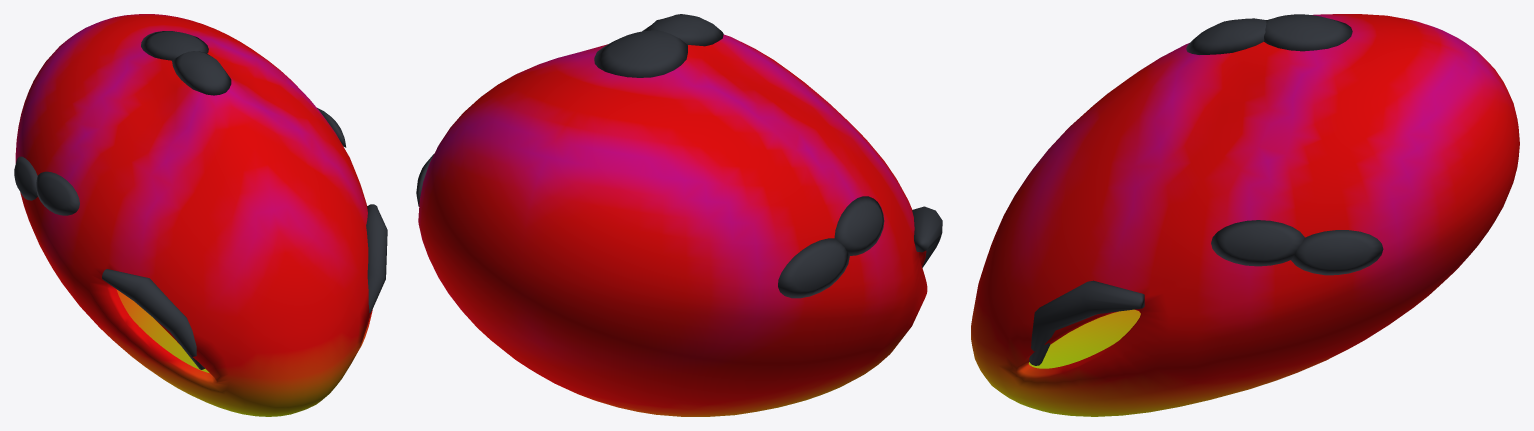
File: GXR_HEAD_01_DRACONIC.glb
3 renders of one model, left to right at view 1: azimuth 30°, elevation 25°; view 2: azimuth 150°, elevation 25°; view 3: azimuth 270°, elevation 25°, orthographic. The views are drawn at different scales.
Visible parts, largest first — view 1: Mesh_HeadSurface_DRACONIC_Export, Mesh_Supraorbital_ridge_Export, Mesh_Organic_cranial_scute_Export, Mesh_Supraorbital_ridge.001_Export, Mesh_Organic_cranial_scute.002_Export, Mesh_Organic_cranial_scute.001_Export, Mesh_Organic_cranial_scute.003_Export; view 2: Mesh_HeadSurface_DRACONIC_Export, Mesh_Organic_cranial_scute.001_Export, Mesh_Organic_cranial_scute.003_Export, Mesh_Organic_cranial_scute.002_Export, Mesh_Organic_cranial_scute_Export, Mesh_Supraorbital_ridge_Export; view 3: Mesh_HeadSurface_DRACONIC_Export, Mesh_Supraorbital_ridge.001_Export, Mesh_Organic_cranial_scute.004_Export, Mesh_Organic_cranial_scute.005_Export, Mesh_Organic_cranial_scute.001_Export, Mesh_Organic_cranial_scute_Export.
Part boxes in pixels (<box>): Mesh_HeadSurface_DRACONIC_Export: <box>15,14,372,416</box>; Mesh_Supraorbital_ridge_Export: <box>102,269,204,369</box>; Mesh_Organic_cranial_scute_Export: <box>172,51,231,95</box>; Mesh_Supraorbital_ridge.001_Export: <box>366,204,387,312</box>; Mesh_Organic_cranial_scute.002_Export: <box>36,171,79,215</box>; Mesh_Organic_cranial_scute.001_Export: <box>141,31,208,60</box>; Mesh_Organic_cranial_scute.003_Export: <box>14,156,37,200</box>; Mesh_HeadSurface_DRACONIC_Export: <box>418,34,927,416</box>; Mesh_Organic_cranial_scute.001_Export: <box>594,30,687,77</box>; Mesh_Organic_cranial_scute.003_Export: <box>778,238,849,298</box>; Mesh_Organic_cranial_scute.002_Export: <box>834,196,884,255</box>; Mesh_Organic_cranial_scute_Export: <box>642,14,723,46</box>; Mesh_Supraorbital_ridge_Export: <box>912,206,942,267</box>; Mesh_HeadSurface_DRACONIC_Export: <box>971,14,1519,416</box>; Mesh_Supraorbital_ridge.001_Export: <box>1029,280,1144,365</box>; Mesh_Organic_cranial_scute.004_Export: <box>1211,220,1304,266</box>; Mesh_Organic_cranial_scute.005_Export: <box>1291,230,1383,275</box>; Mesh_Organic_cranial_scute.001_Export: <box>1264,14,1352,51</box>; Mesh_Organic_cranial_scute_Export: <box>1186,18,1266,54</box>.
Size of the model in its own units: 0.5117 by 0.5016 by 0.6546.
